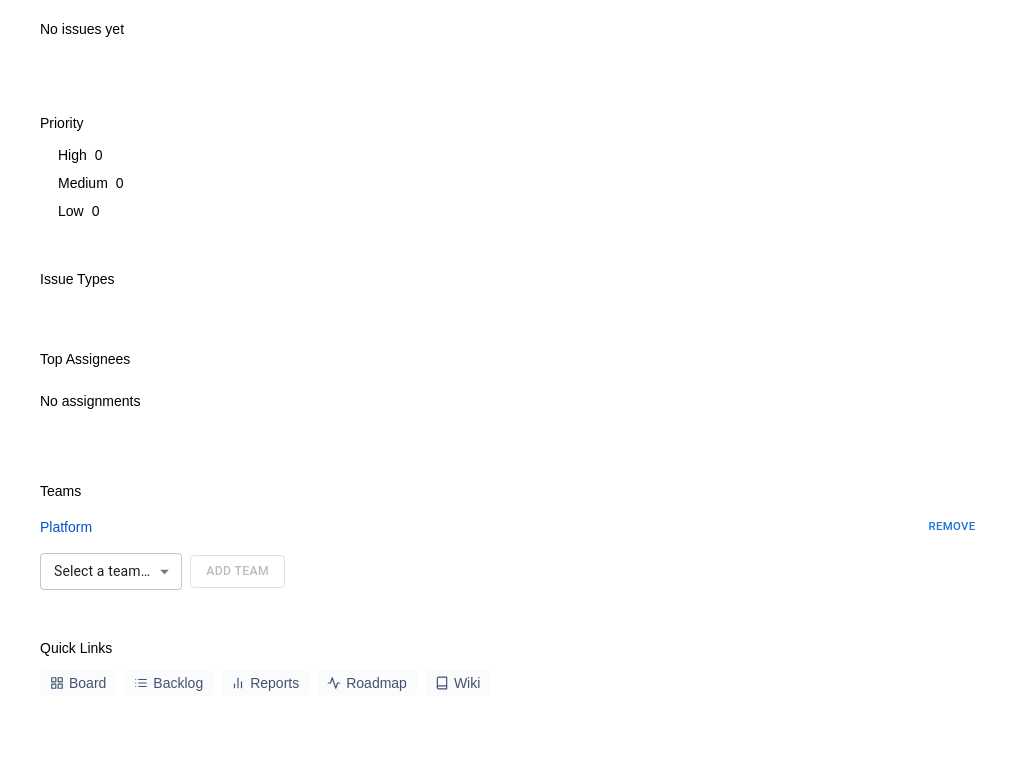
Scenario: JL-424 — the project summary shows and edits its teams › does not offer a team that is already associated
Press the mouse on the dropdown named "add a team to this project" at point(102, 571), box 54,563 -> 150,579
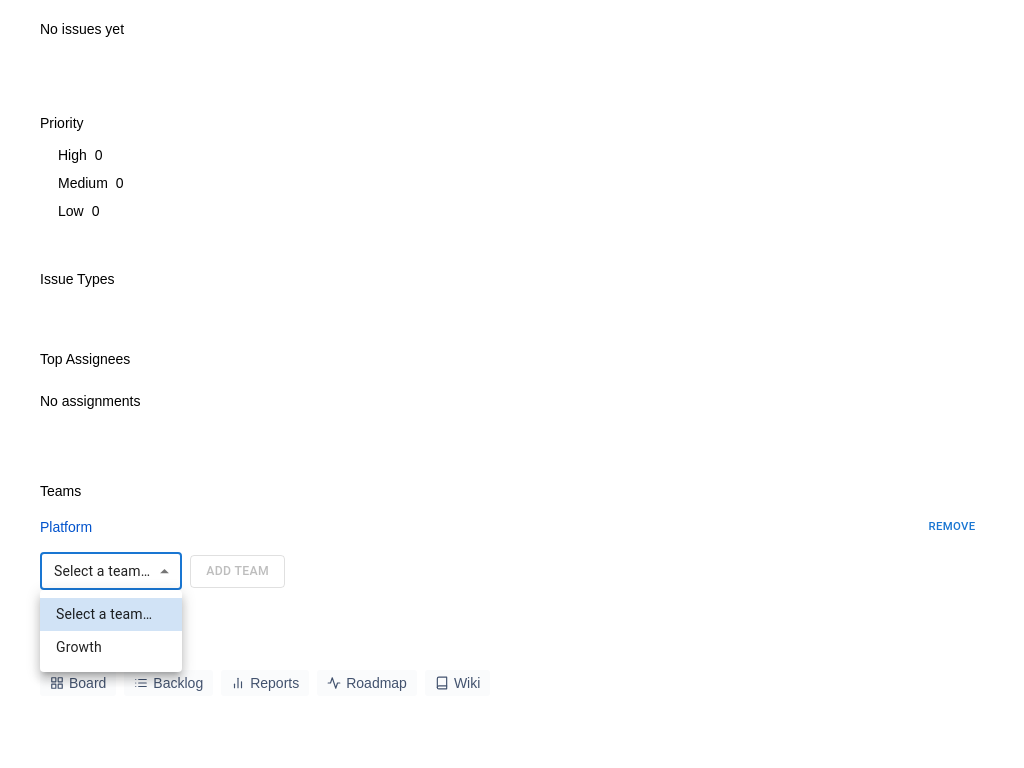
Expected: the option does not show "Platform"
Result: the option "Growth" is shown at 56,639 -> 102,655
